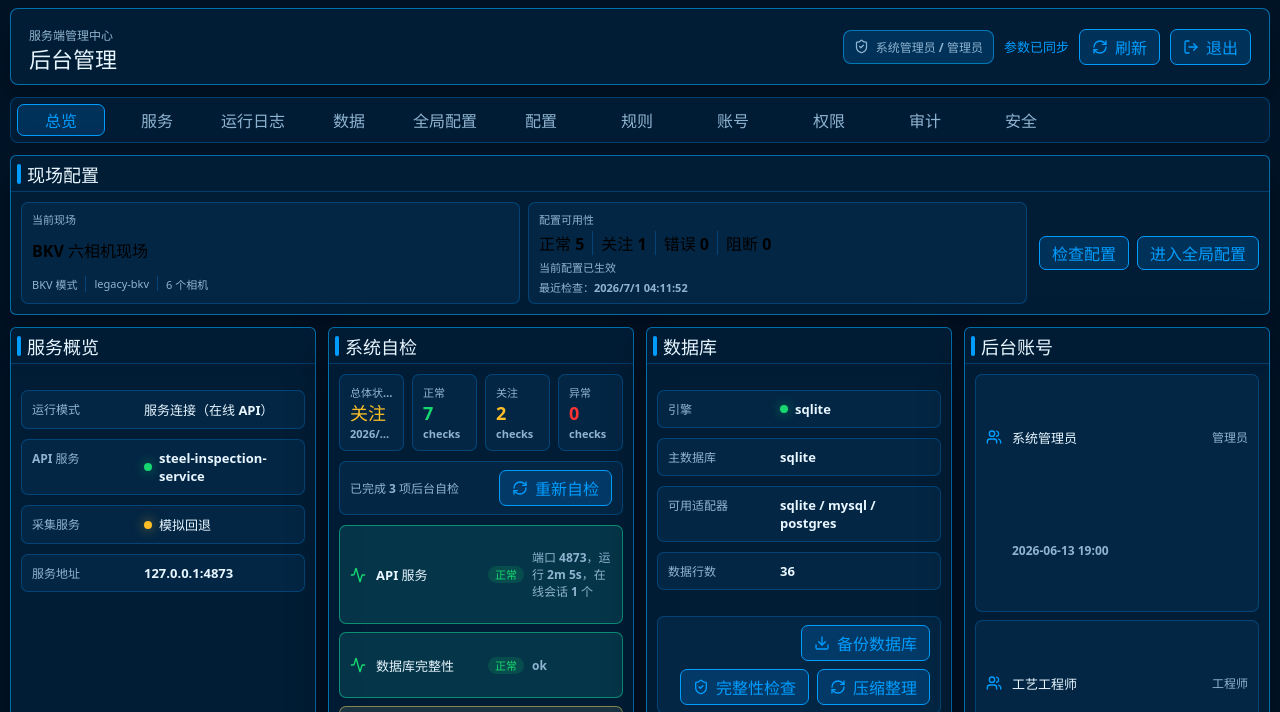
Scenario: ParameterManagementApp › loads split runtime status and bounded service logs in the runtime log tab
expect the text "系统管理员" is shown: met, box [1012,428,1077,446]
Click the button "运行日志": click(253, 120) [209,104,297,136]
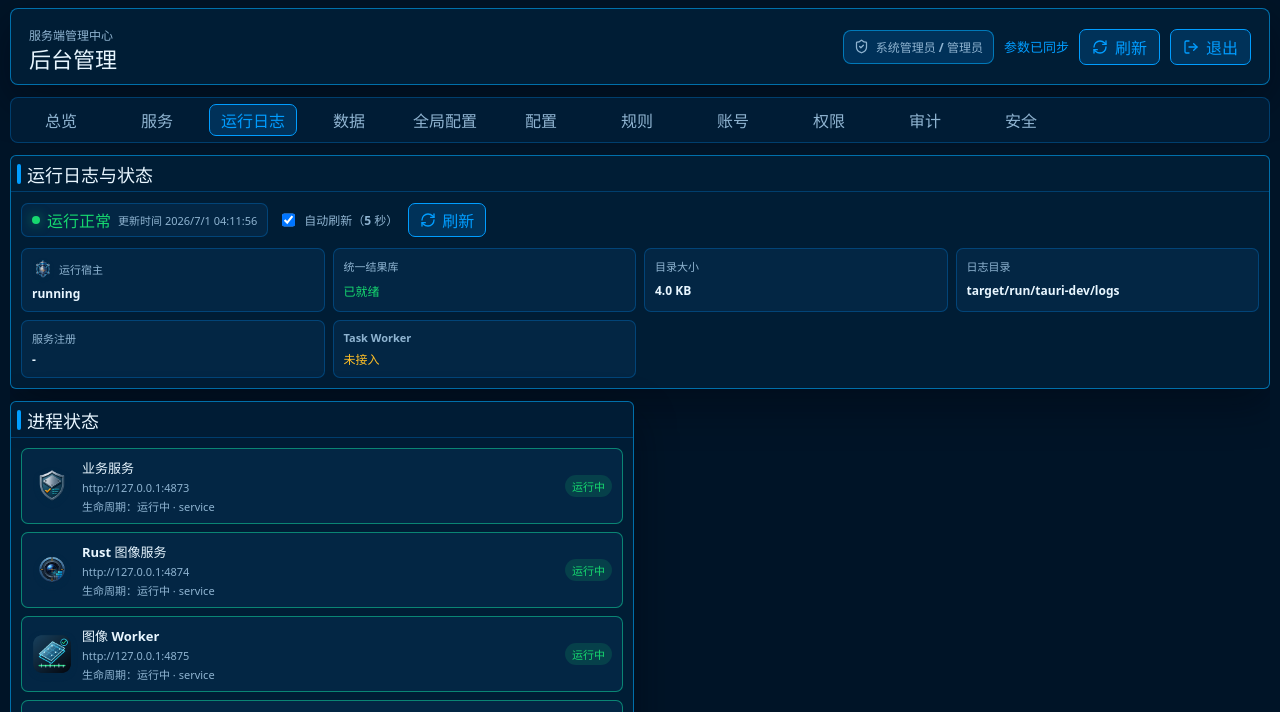
expect the text "运行正常" is shown: met, box [47,208,111,232]
expect the text "统一结果库" is shown: met, box [344,259,398,274]
expect the text "已就绪" is shown: met, box [344,282,380,300]
